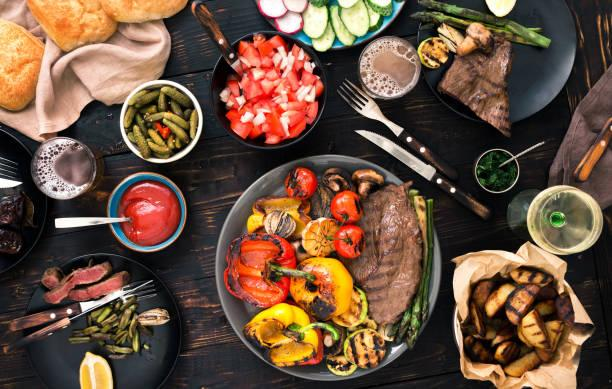Braised Crucian Carp: (215, 156, 435, 381), (449, 240, 593, 387), (414, 0, 575, 127)
